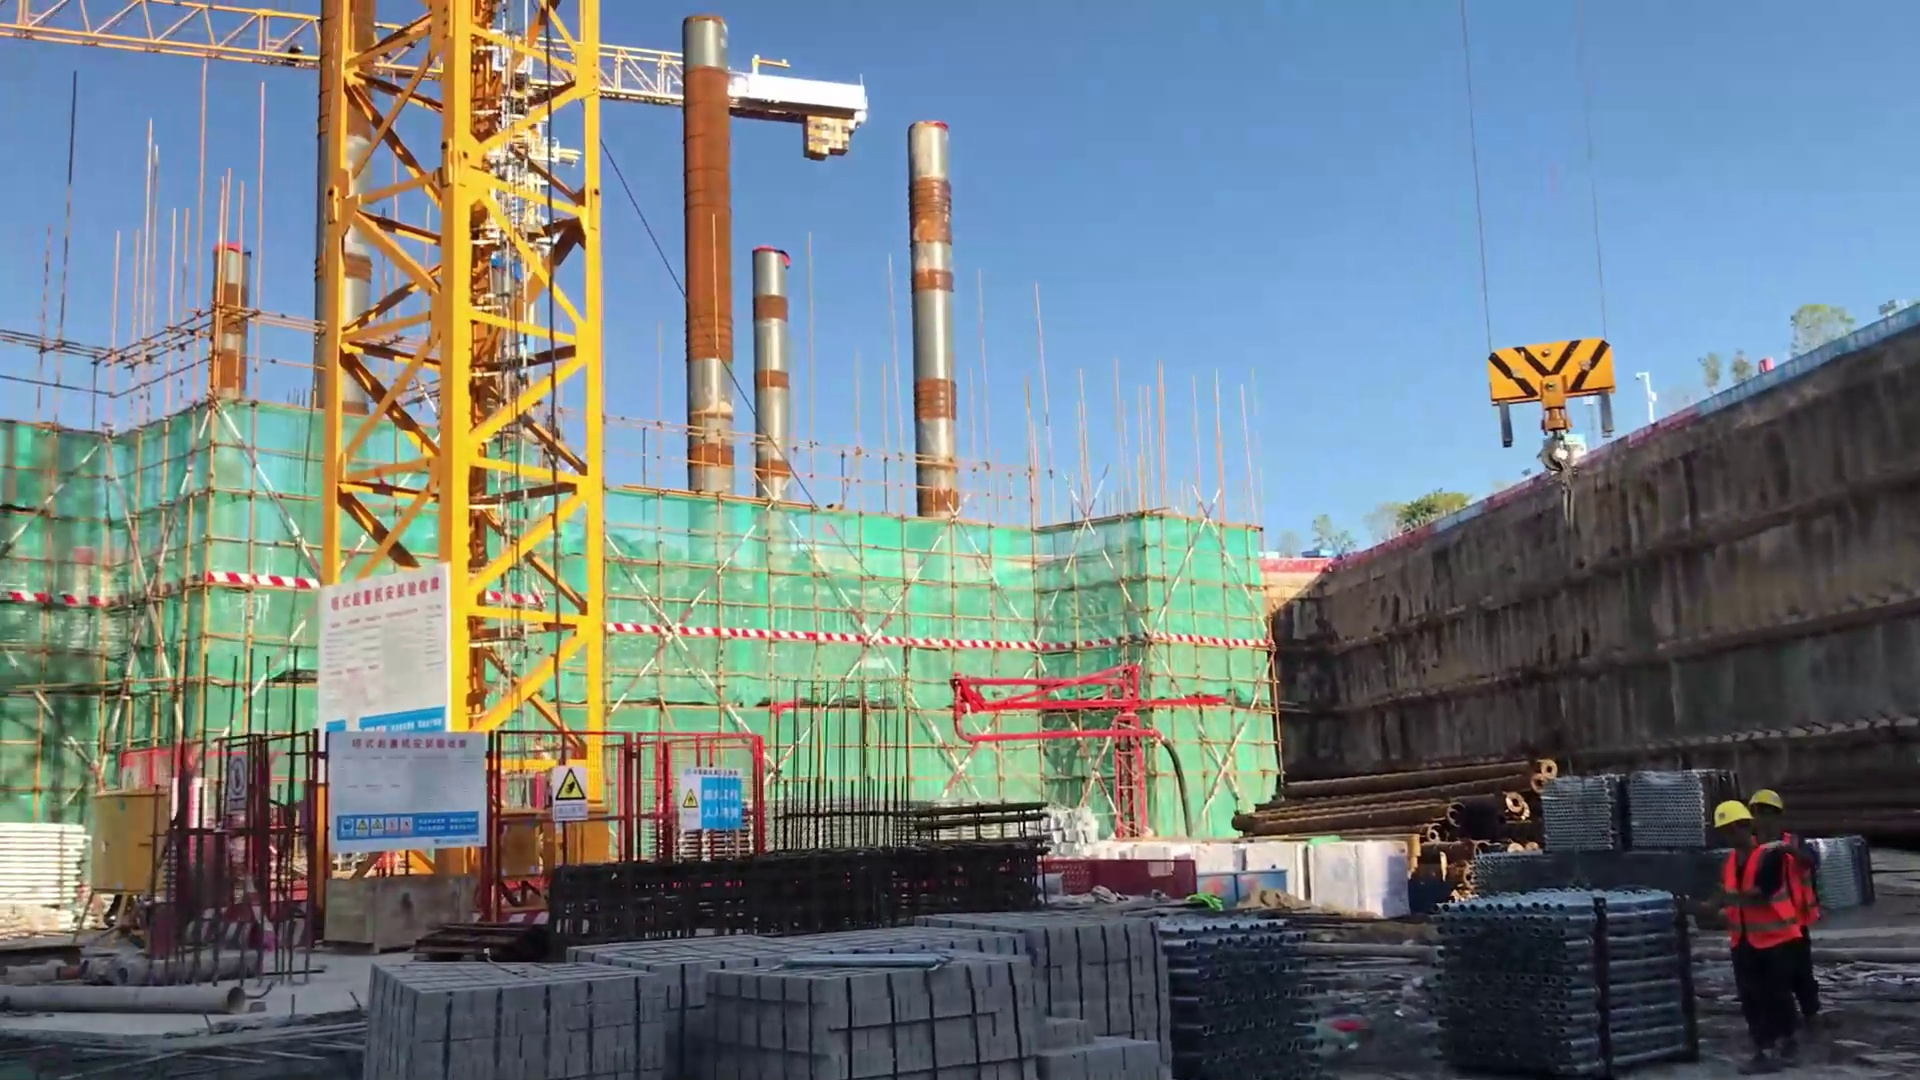brick: (343, 926, 1134, 1080)
helmet: (1742, 779, 1792, 815), (1700, 789, 1749, 824)
hook: (1484, 339, 1633, 469)
scaffold: (1418, 870, 1724, 1079), (1509, 773, 1733, 870)
vest: (1713, 839, 1801, 943)
